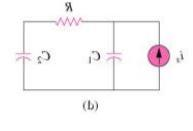Capacitor: (8, 46, 35, 67)
